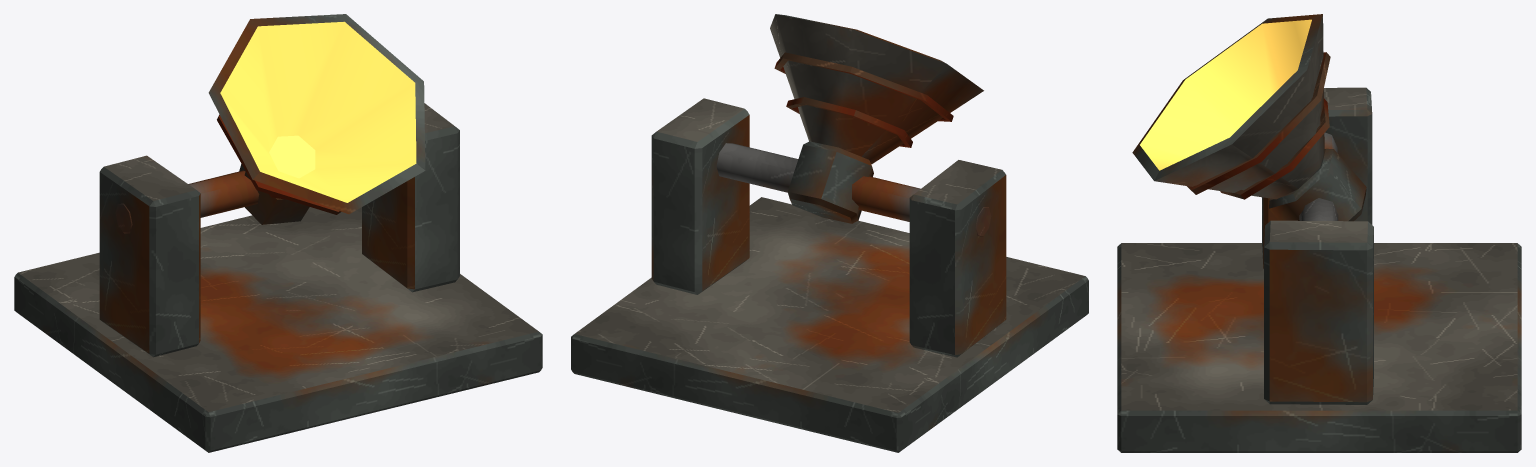
The model's file is R4X_DeployableAmplifier_LOD1.glb.
3 renders of one model, left to right at view 1: azimuth 30°, elevation 25°; view 2: azimuth 150°, elevation 25°; view 3: azimuth 270°, elevation 25°, orthographic. The views are drawn at different scales.
Parts seen in each view (by area): view 1: R4X_DeployableAmplifier_LOD1; view 2: R4X_DeployableAmplifier_LOD1; view 3: R4X_DeployableAmplifier_LOD1.
Boxes of the visible parts, x1,y1,x2,y2 form: R4X_DeployableAmplifier_LOD1: [14, 14, 542, 452]; R4X_DeployableAmplifier_LOD1: [571, 14, 1088, 452]; R4X_DeployableAmplifier_LOD1: [1117, 14, 1521, 452].
Bounding box in the file's own units: 0.52 × 0.4847 × 0.52.
5 materials, 4 textured.
